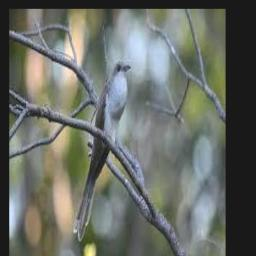Cuckoo: (74, 60, 132, 240)
